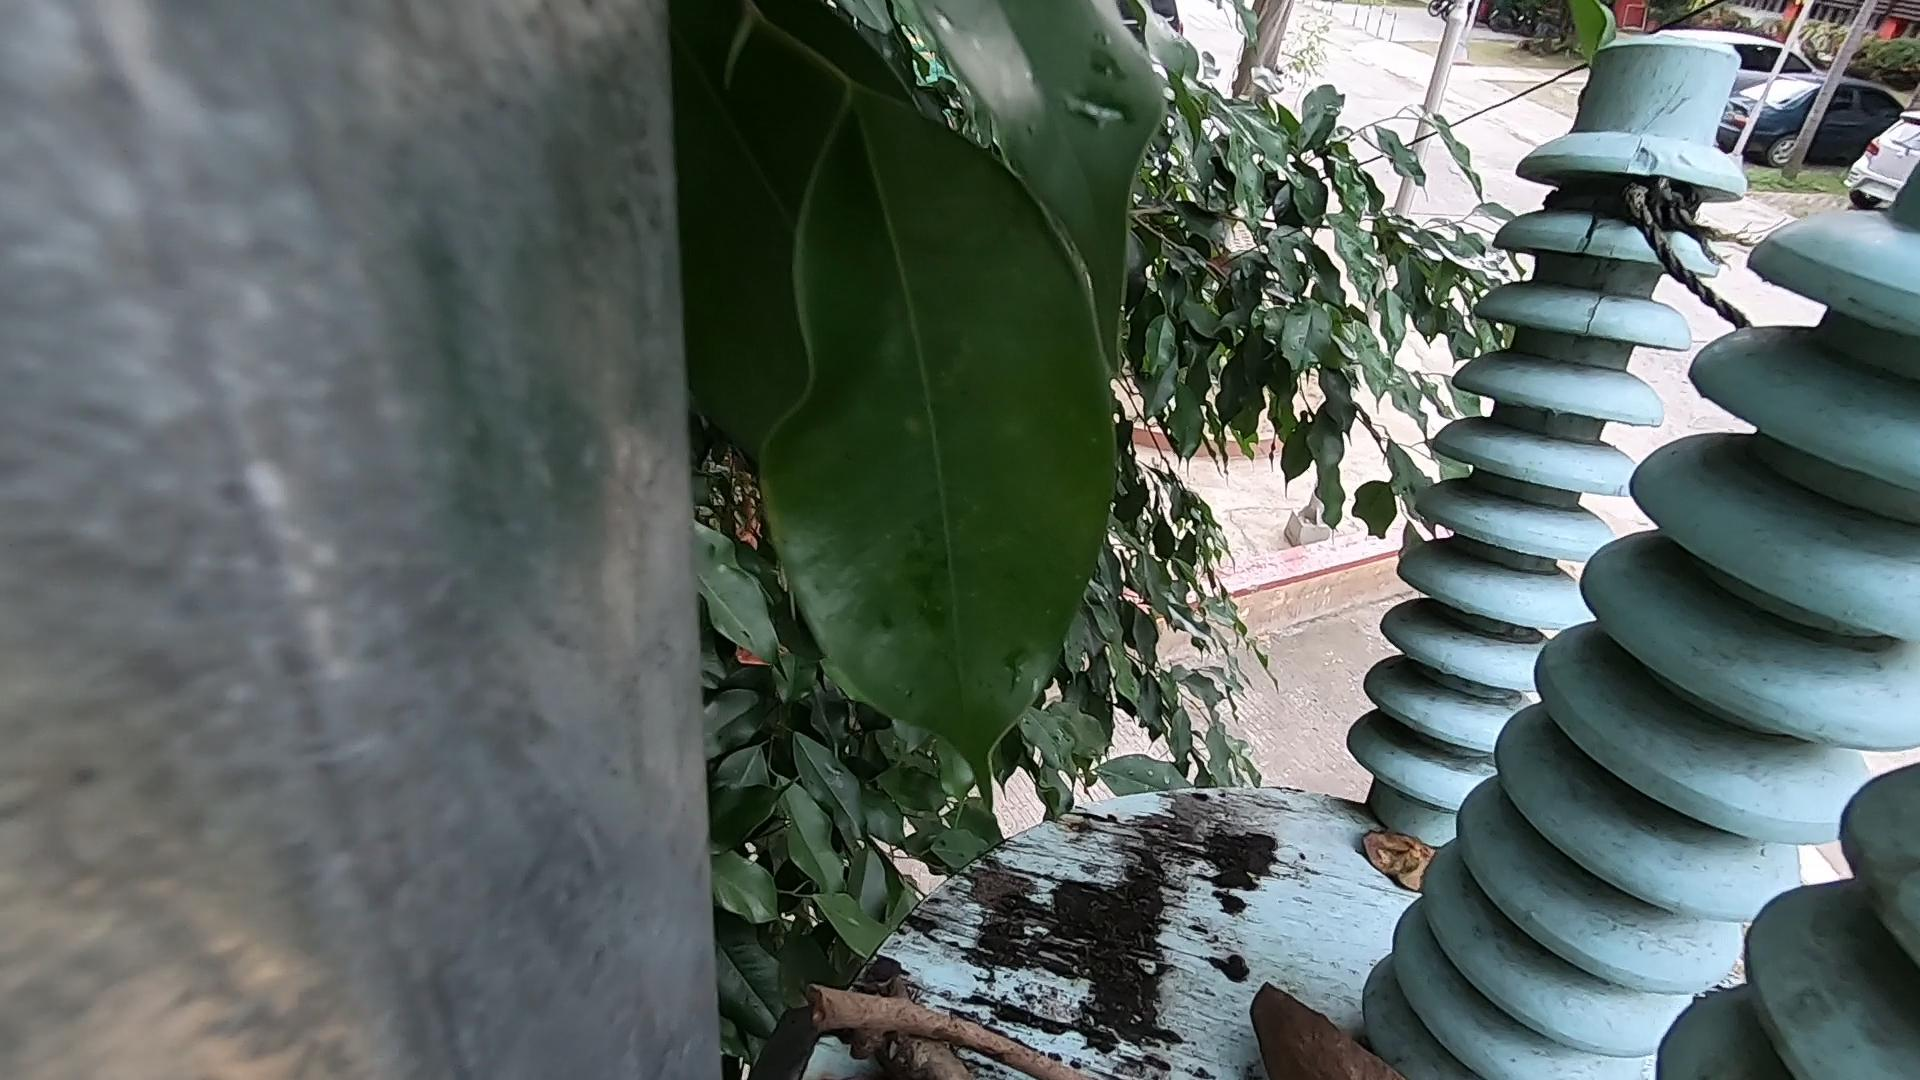branch with leaves: (828, 973, 985, 1080)
leaf: (1358, 815, 1468, 940)
mahogany fruit: (1255, 928, 1375, 1080)
tree branch: (789, 982, 1109, 1080)
